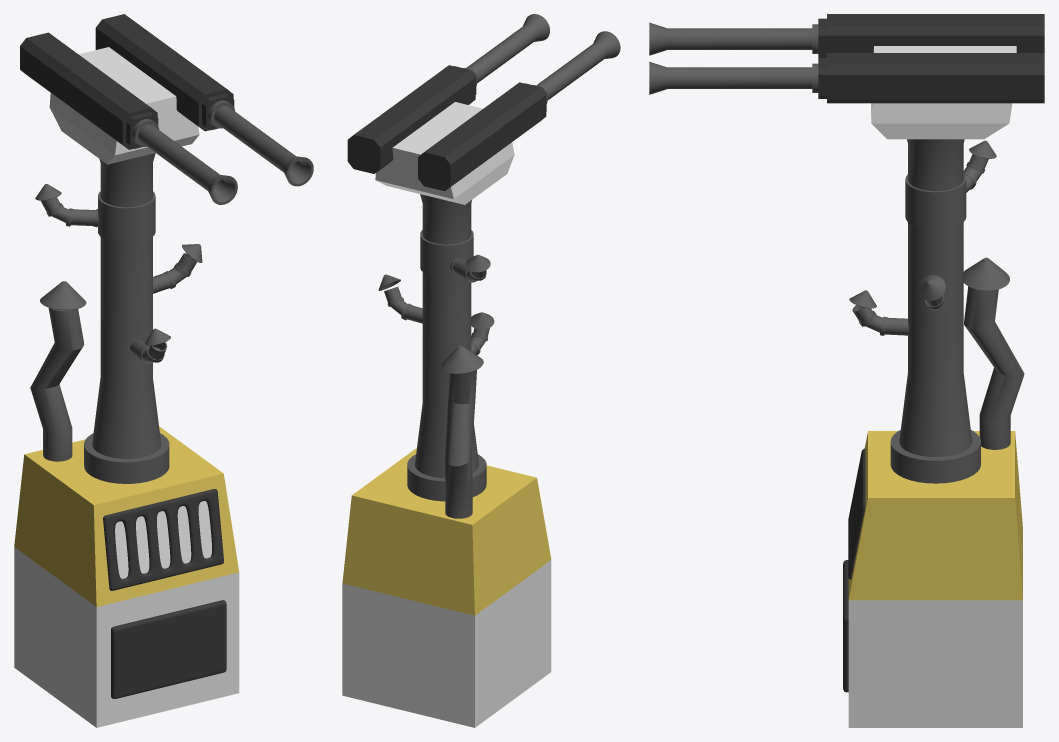
File: Turret_Tower.Export.fbx
3 renders of one model, left to right at view 1: azimuth 30°, elevation 25°; view 2: azimuth 150°, elevation 25°; view 3: azimuth 270°, elevation 25°, orthographic. The views are drawn at different scales.
Parts seen in each view (by area): view 1: Base, Main_Shaft, Plate, Barrel_Base.001, Oven_Grate, Turret_Mount, Barrel_Base, Cylinder.004, Barrel_Main, Barrel_Main.001, Cylinder.020, Cylinder.008 (+1 smaller); view 2: Base, Main_Shaft, Barrel_Base.001, Barrel_Base, Turret_Mount, Cylinder.004, Barrel_Main.001, Barrel_Main, Cylinder.008, Cylinder.020, Cylinder.022; view 3: Base, Main_Shaft, Barrel_Base, Barrel_Base.001, Cylinder.004, Turret_Mount, Barrel_Main.001, Barrel_Main, Oven_Grate, Cylinder.022, Cylinder.020, Plate (+1 smaller).
Part boxes in pixels (box(x1,y1,x2,y2)): Base: box(14, 426, 239, 727); Main_Shaft: box(84, 153, 169, 483); Plate: box(111, 600, 226, 698); Barrel_Base.001: box(20, 32, 158, 149); Oven_Grate: box(103, 489, 223, 590); Turret_Mount: box(49, 47, 199, 164); Barrel_Base: box(95, 14, 234, 131); Cylinder.004: box(30, 281, 86, 461); Barrel_Main: box(208, 100, 313, 186); Barrel_Main.001: box(132, 119, 237, 204); Cylinder.020: box(35, 184, 98, 227); Cylinder.008: box(153, 244, 202, 293); Base: box(342, 448, 551, 727); Main_Shaft: box(407, 194, 486, 501); Barrel_Base.001: box(418, 82, 546, 191); Barrel_Base: box(347, 65, 476, 173); Turret_Mount: box(375, 102, 514, 204); Cylinder.004: box(440, 345, 483, 518); Barrel_Main.001: box(533, 31, 620, 103); Barrel_Main: box(463, 14, 549, 86); Cylinder.008: box(378, 274, 422, 323); Cylinder.020: box(450, 254, 490, 282); Cylinder.022: box(471, 312, 494, 355); Base: box(848, 431, 1022, 727); Main_Shaft: box(890, 139, 980, 483); Barrel_Base: box(818, 53, 1044, 103); Barrel_Base.001: box(818, 14, 1044, 57); Cylinder.004: box(963, 257, 1024, 449); Turret_Mount: box(871, 46, 1016, 139); Barrel_Main.001: box(649, 22, 818, 55); Barrel_Main: box(649, 61, 818, 94); Oven_Grate: box(848, 448, 865, 579); Cylinder.022: box(849, 290, 908, 335); Cylinder.020: box(963, 140, 996, 192); Plate: box(843, 560, 848, 692).
Bounding box in the file's own units: 220 × 898 × 493.
